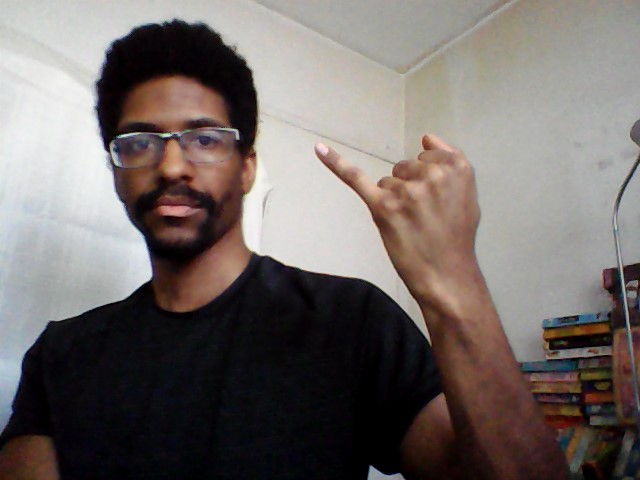j: (309, 127, 486, 273)
